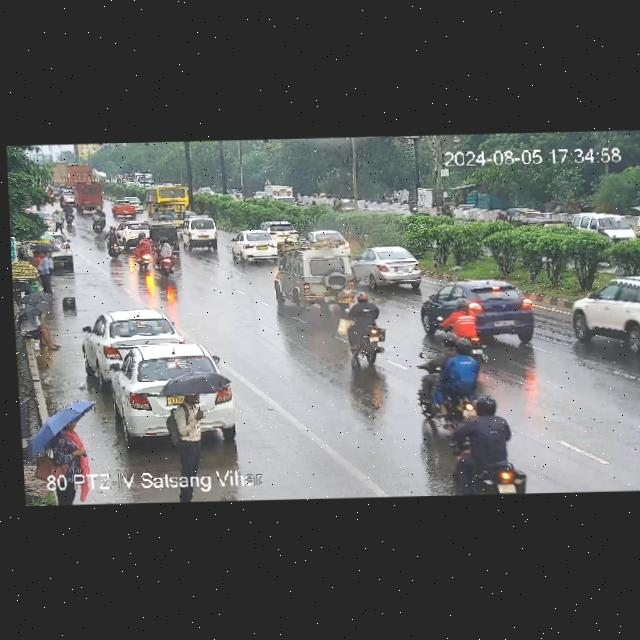bus: (140, 185, 192, 221)
car: (80, 304, 235, 444), (420, 278, 534, 344), (84, 307, 186, 378), (273, 244, 360, 307), (351, 245, 423, 289), (573, 211, 638, 240), (26, 230, 75, 265), (231, 230, 282, 263), (177, 215, 219, 251), (300, 229, 348, 252), (258, 220, 300, 246), (503, 205, 544, 227), (117, 220, 153, 241), (331, 197, 358, 213)
motorcycle: (443, 395, 521, 493), (416, 341, 491, 427), (436, 298, 488, 363), (344, 295, 389, 369), (471, 461, 528, 495), (156, 236, 175, 277), (133, 232, 153, 267)
person: (32, 425, 92, 504), (162, 394, 209, 477), (13, 291, 62, 355), (34, 253, 56, 293)
truck: (567, 271, 640, 353), (73, 182, 105, 211), (264, 183, 297, 205), (114, 203, 139, 221)
